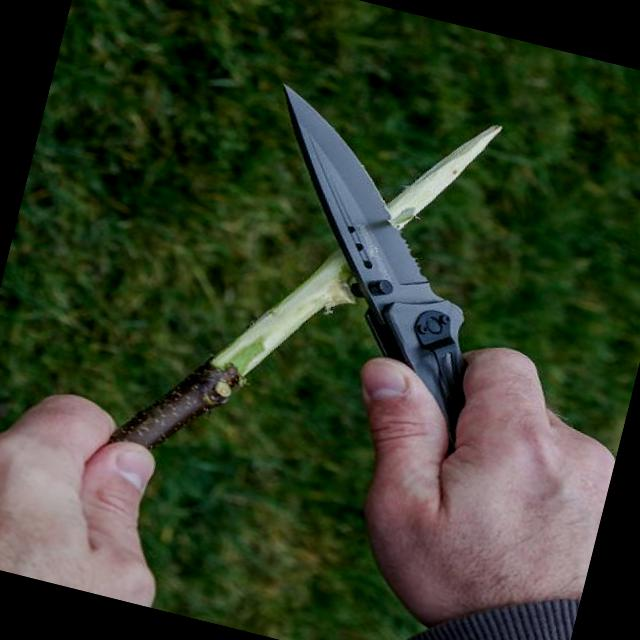knife: (182, 62, 628, 496)
